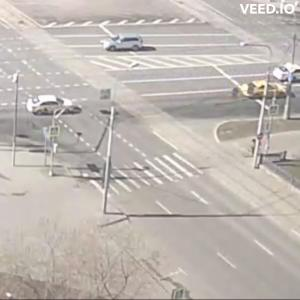car: (28, 95, 82, 118), (106, 35, 151, 54), (238, 84, 287, 100), (272, 63, 300, 79)
